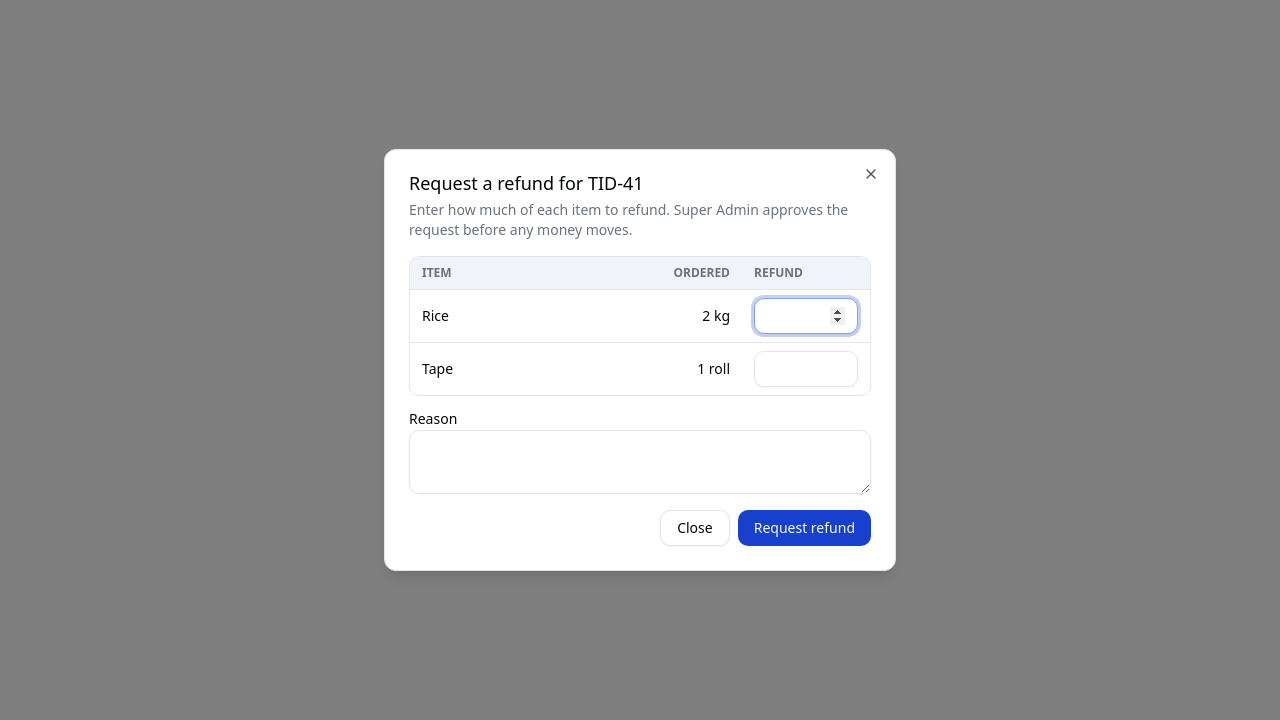
requesting a refund on a desk order › refuses more than was ordered, or no line at all, before sending
In the text box labelled "Reason": (640, 462) 409,430 -> 871,494, type "Damaged"
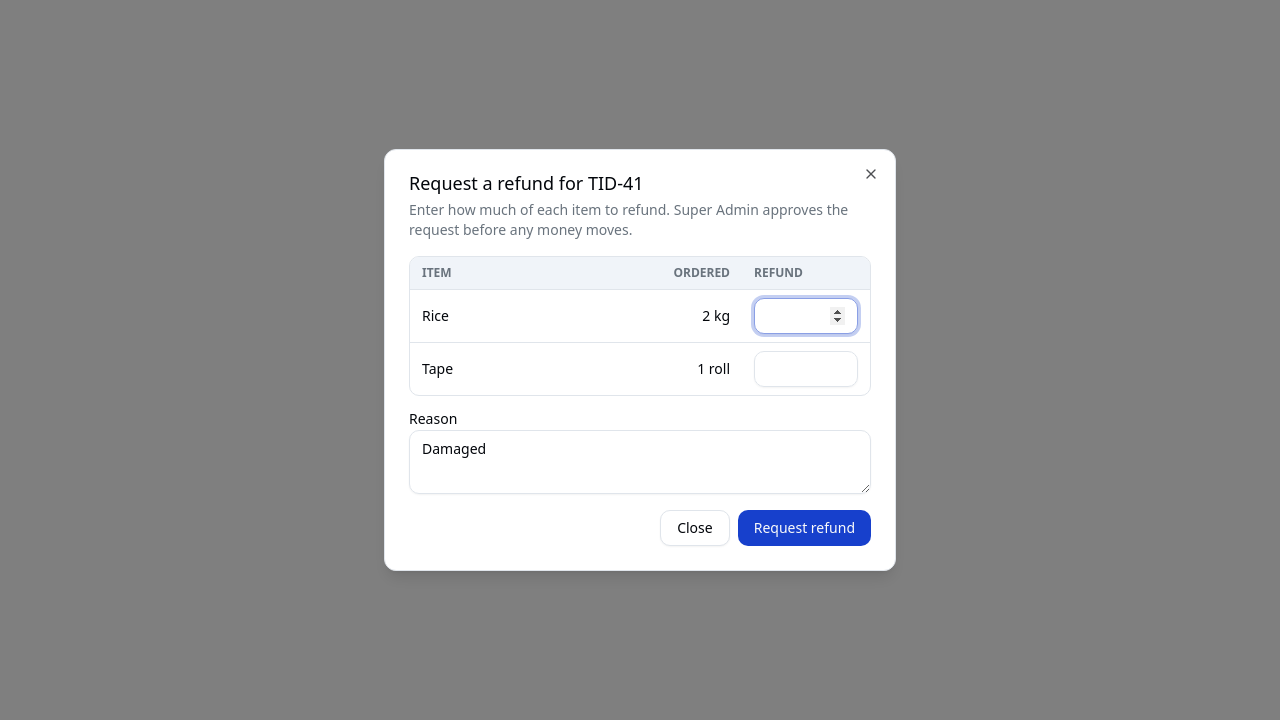
Click the button "Request refund": (804, 528) 738,510 -> 871,546
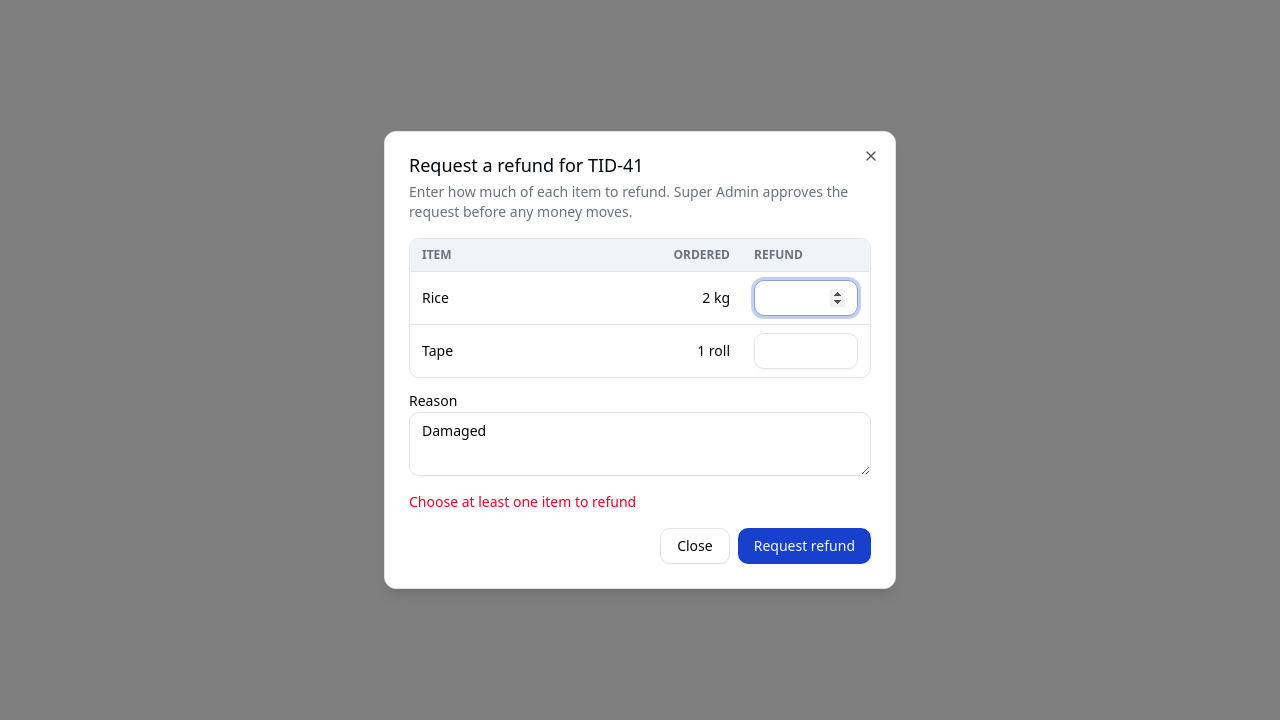
Check: the text "Choose at least one item to refund" is shown, box 409,492 -> 636,511
In the number field named "Refund quantity for Rice": (806, 298) 754,280 -> 858,316, type "3"
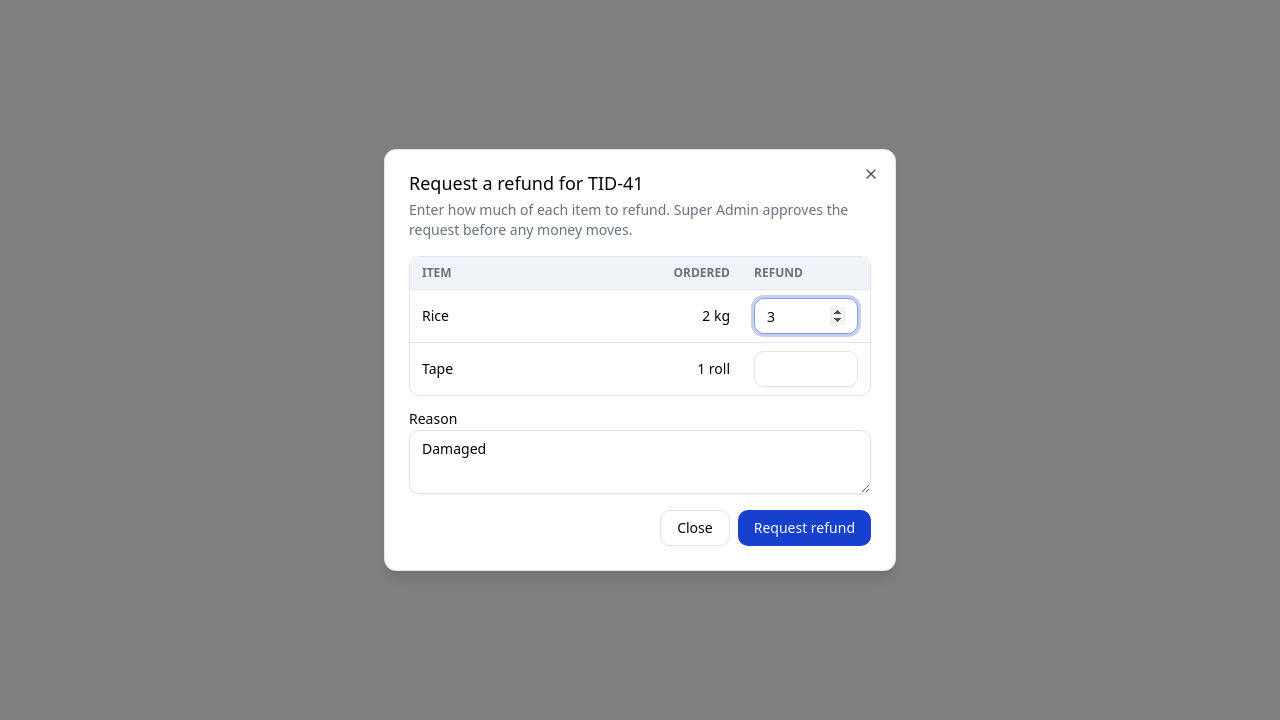
Click the button "Request refund": (804, 528) 738,510 -> 871,546
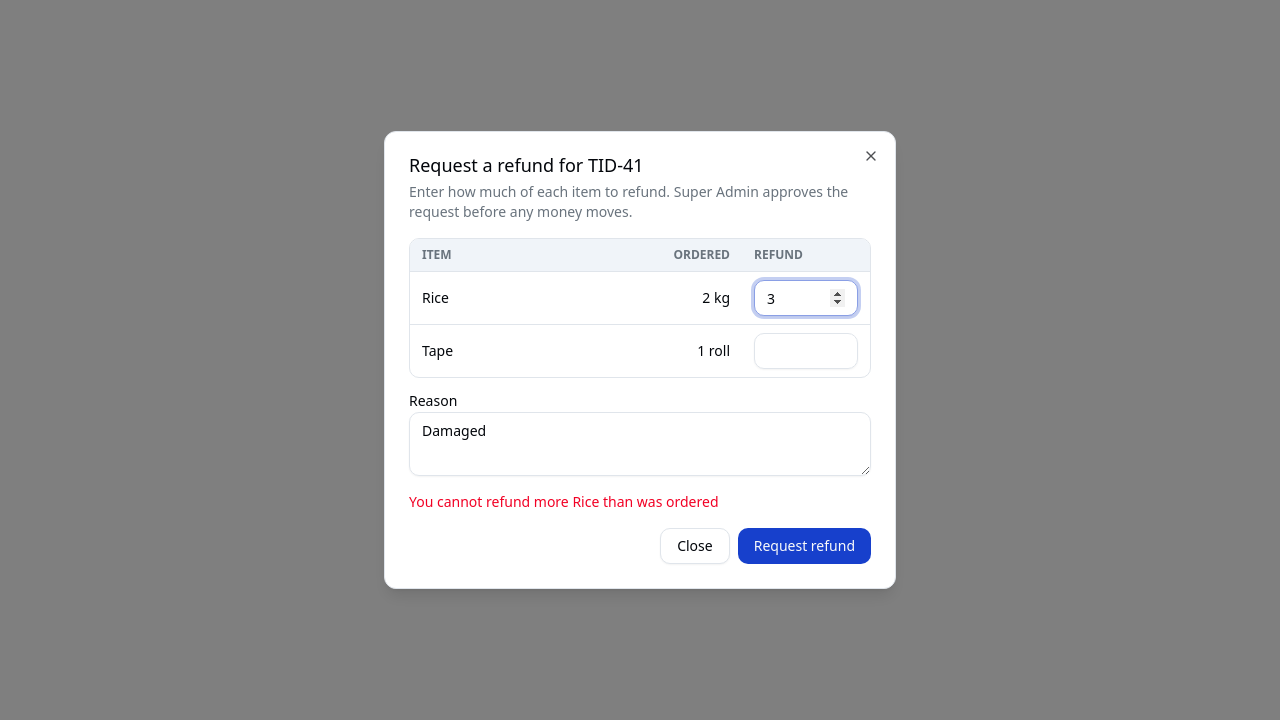
Check: the text "You cannot refund more Rice than was ordered" is shown, box 409,492 -> 718,511
